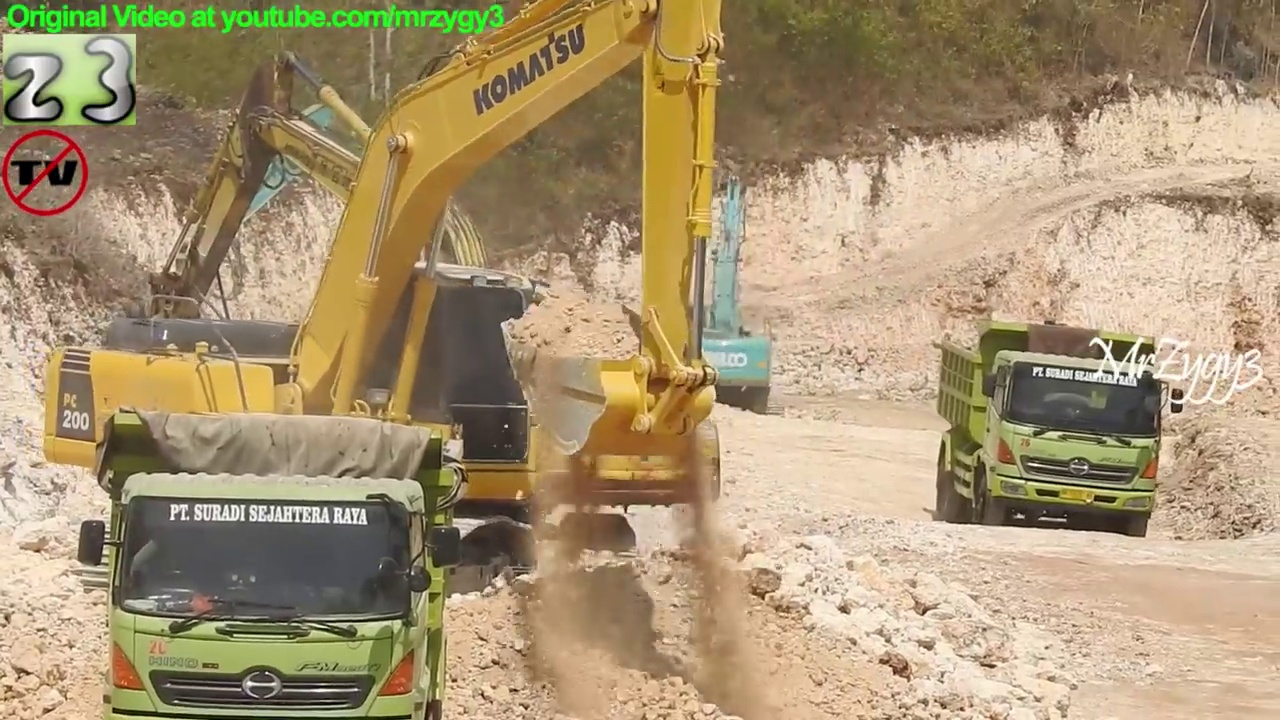excavator: (40, 2, 733, 610), (102, 52, 651, 586), (162, 81, 577, 471), (600, 131, 799, 427)
truck: (78, 402, 466, 720), (929, 314, 1193, 544)
